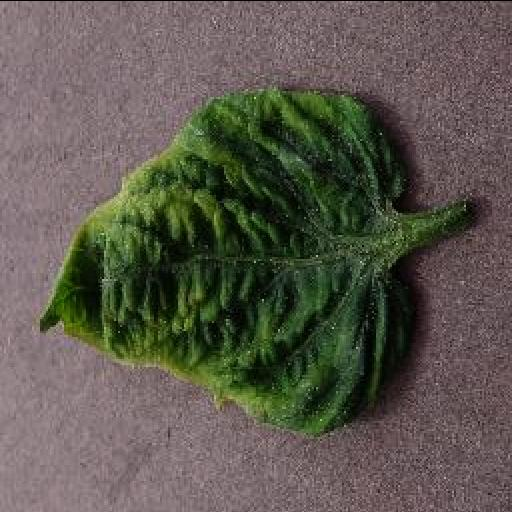disease_tomato: (32, 84, 418, 437)
